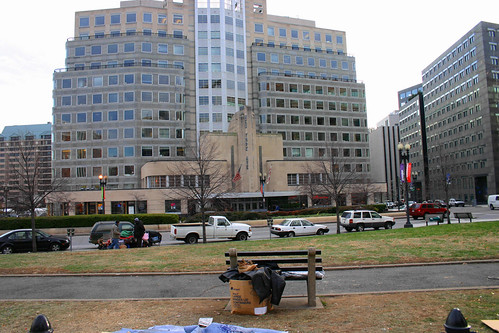bench: (218, 248, 330, 311)
building: (58, 3, 376, 200), (384, 25, 499, 194), (1, 122, 57, 212)
car: (165, 213, 253, 243), (88, 216, 160, 249), (1, 225, 72, 258), (333, 204, 398, 233), (267, 214, 330, 237), (409, 199, 452, 222)
